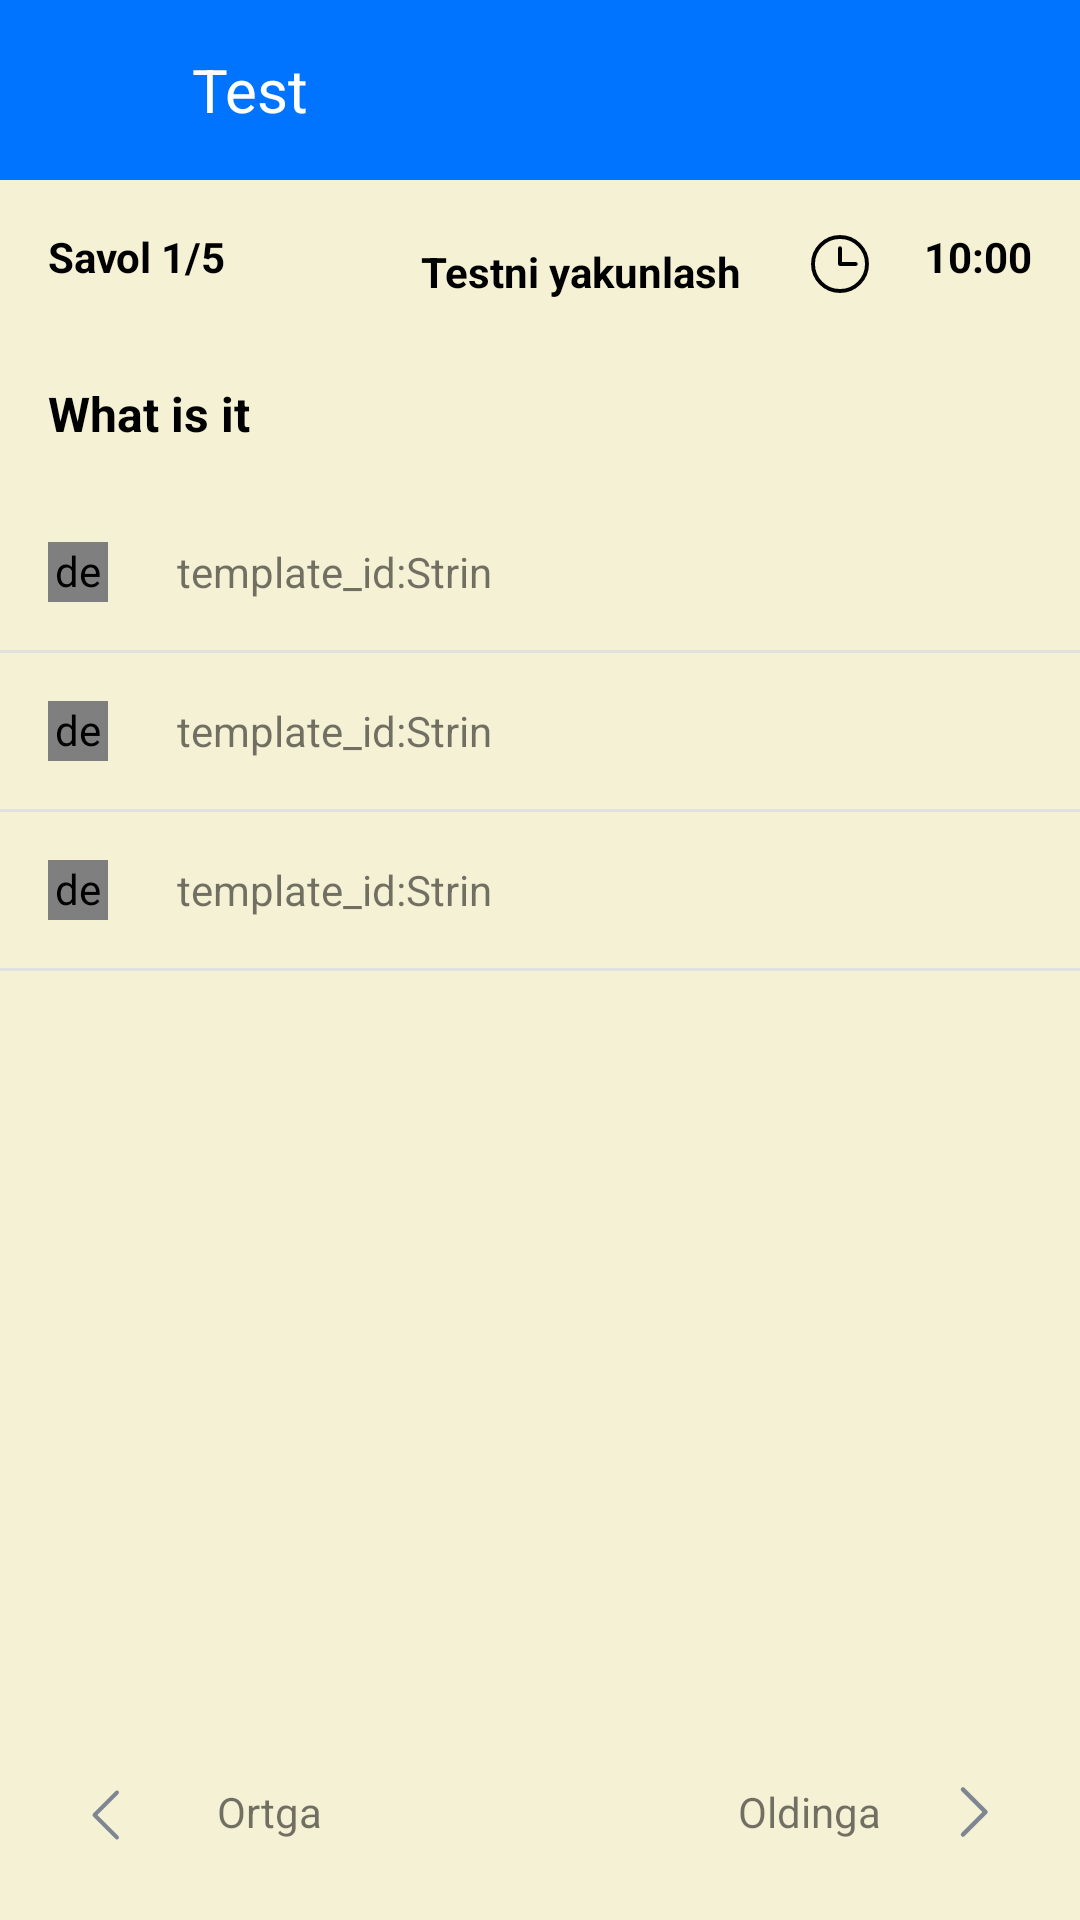

Named icons in this screenshot (1080px x 1920px) and their centers, [x,y]:
clock: [840,264]
left arrow: [105,1815]
right follow: [974,1812]
